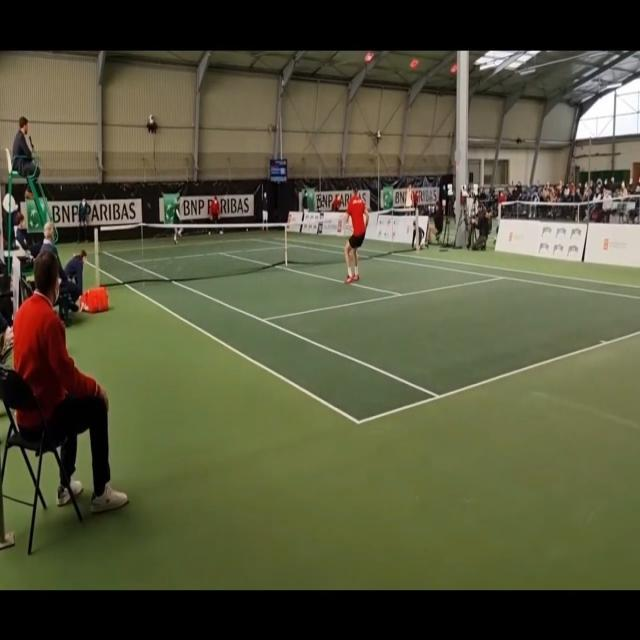court: (73, 237, 640, 424)
net: (94, 207, 420, 292)
player: (343, 182, 370, 286)
